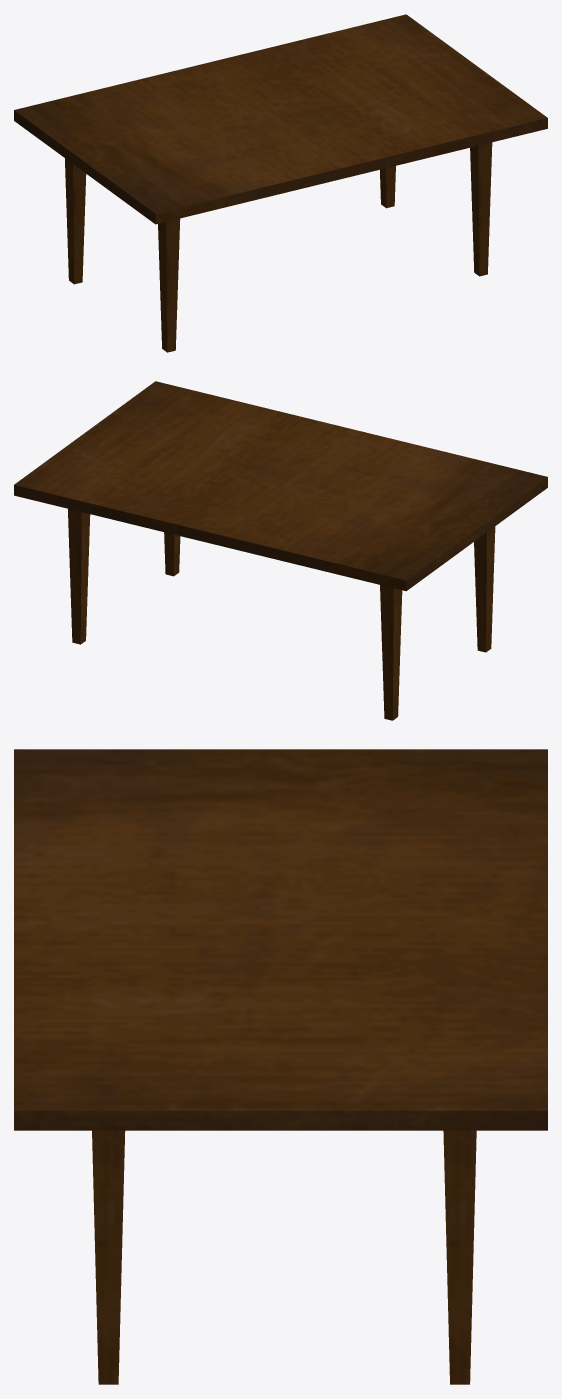
Rendered from stol (1).fbx.
3 views of the same model, one above another, from view 1: azimuth 30°, elevation 25°; view 2: azimuth 150°, elevation 25°; view 3: azimuth 270°, elevation 25° (orthographic). The views are drawn at different scales.
Parts seen in each view (by area): view 1: Cube.004; view 2: Cube.004; view 3: Cube.004.
Part boxes in pixels (x1,y1,x2,y2): Cube.004: [14, 14, 547, 352]; Cube.004: [14, 381, 547, 720]; Cube.004: [14, 749, 547, 1384].
Size of the model in its own units: 232 by 92.64 by 145.
1 material, 1 textured.
